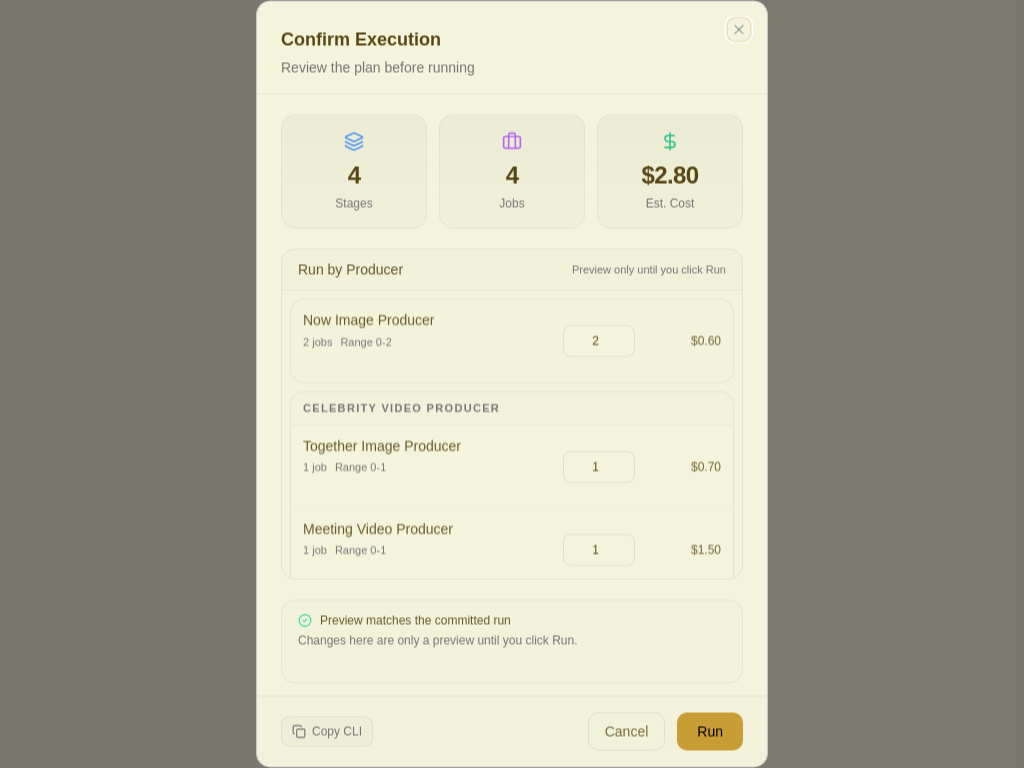
Test: PlanDialog › keeps the run dialog open with an inline invalid-plan error when replanning fails
Replace the text in the number field named "Count for Now Image Producer" with "1". click: (599, 340)
box: left=563, top=324, right=635, bottom=356
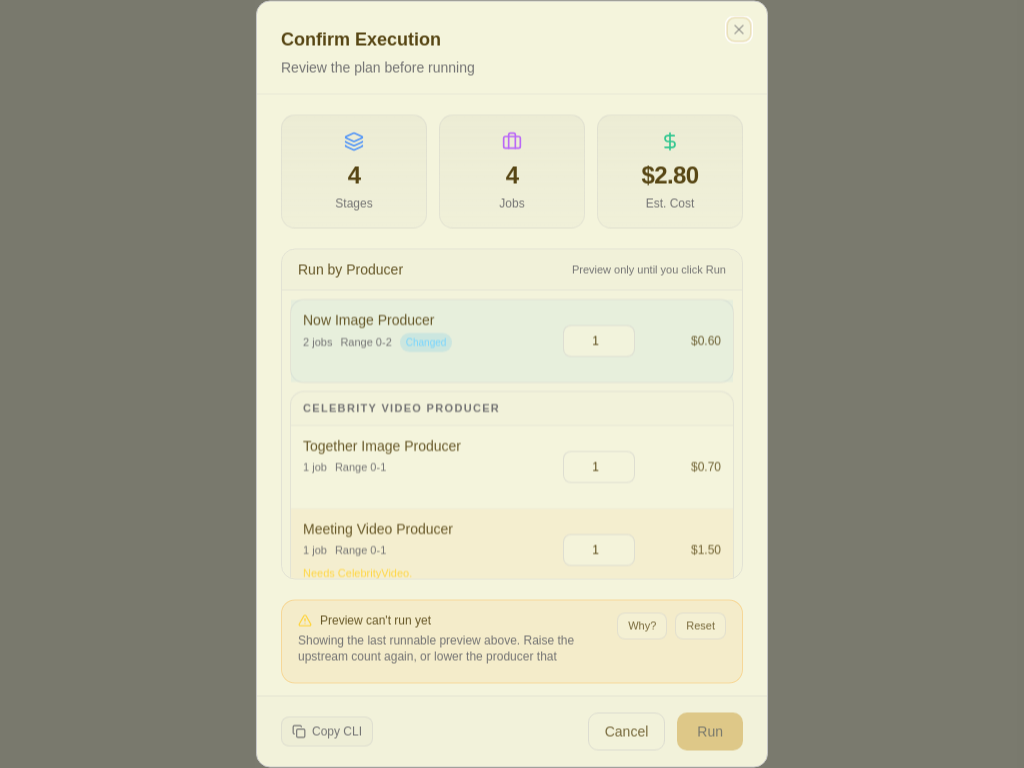
Expected: the text "Preview can't run yet" is shown, left=320, top=612, right=431, bottom=628
Expected: the text "Showing the last runnable preview above. Raise the upstream count again, or lower the producer that depends on that miss" is shown, left=298, top=634, right=574, bottom=680
Expected: the button "Why?" is shown, left=617, top=612, right=667, bottom=639
